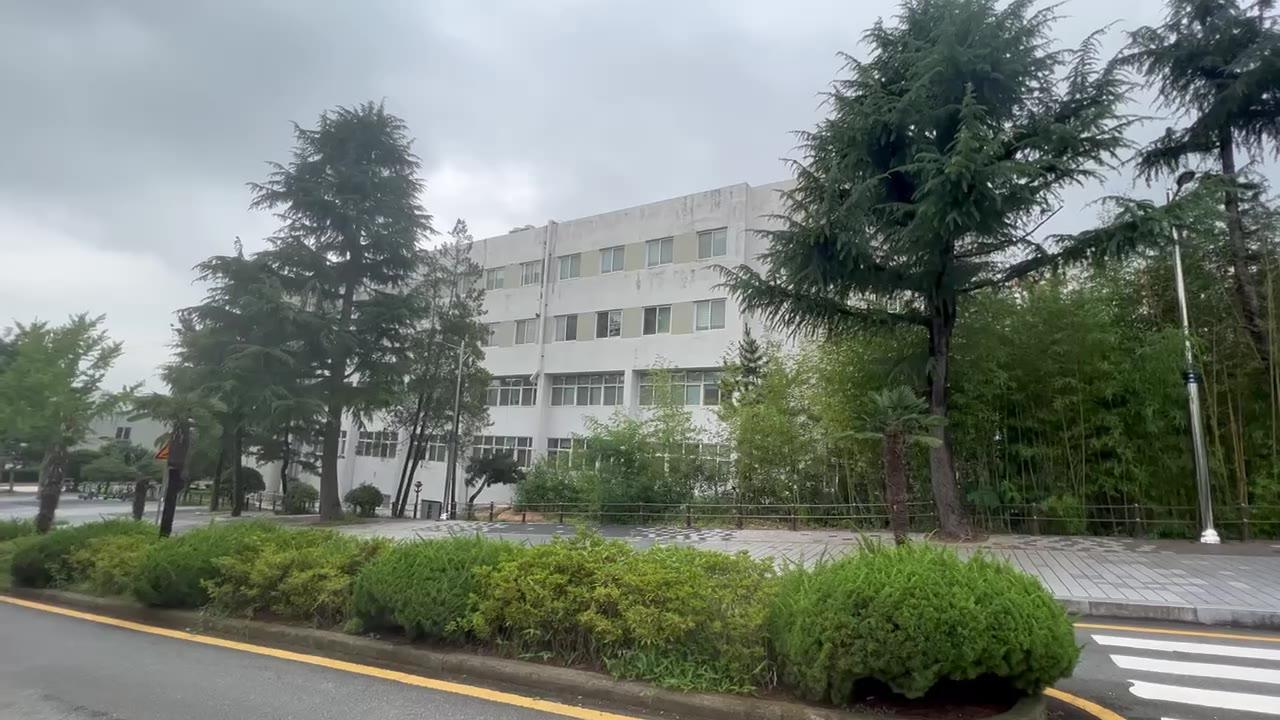building: (492, 204, 738, 440)
